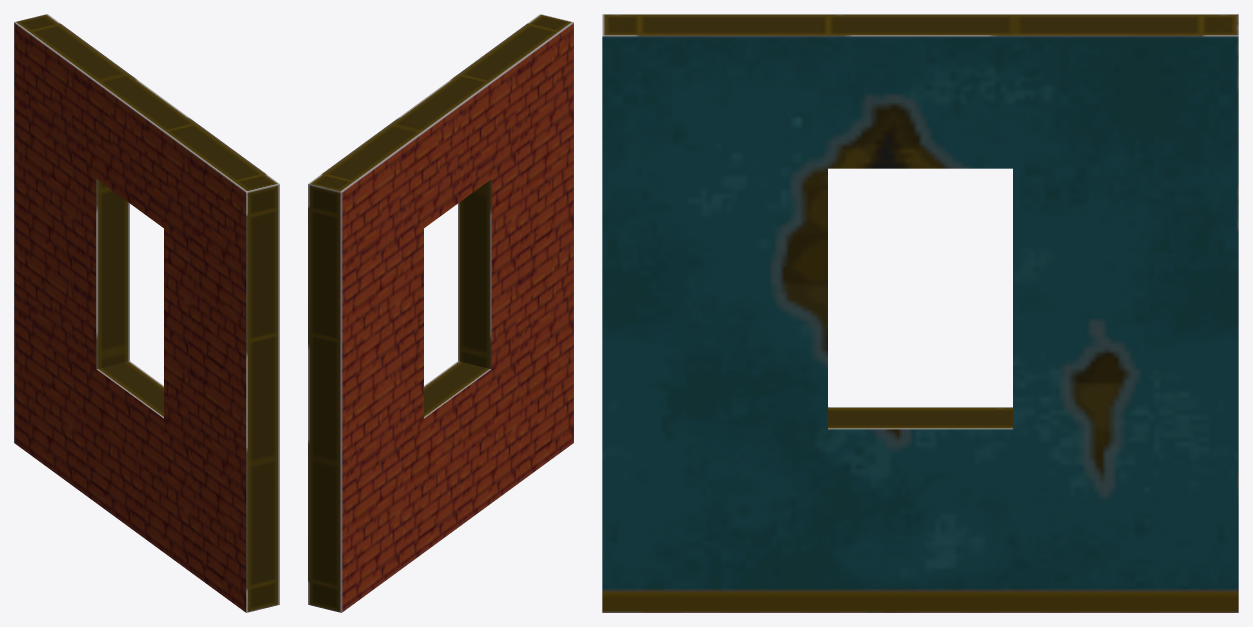
The model's file is Wallb_Window_01.fbx.
3 views of the same model, side by side, from view 1: azimuth 30°, elevation 25°; view 2: azimuth 150°, elevation 25°; view 3: azimuth 270°, elevation 25° (orthographic). The views are drawn at different scales.
Visible parts, largest first — view 1: Wallb_Window_01; view 2: Wallb_Window_01; view 3: Wallb_Window_01.
Boxes of the visible parts, x1,y1,x2,y2 form: Wallb_Window_01: (14,14,279,612); Wallb_Window_01: (308,14,573,612); Wallb_Window_01: (602,14,1238,612).
Size of the model in its own units: 50 by 600 by 600.
